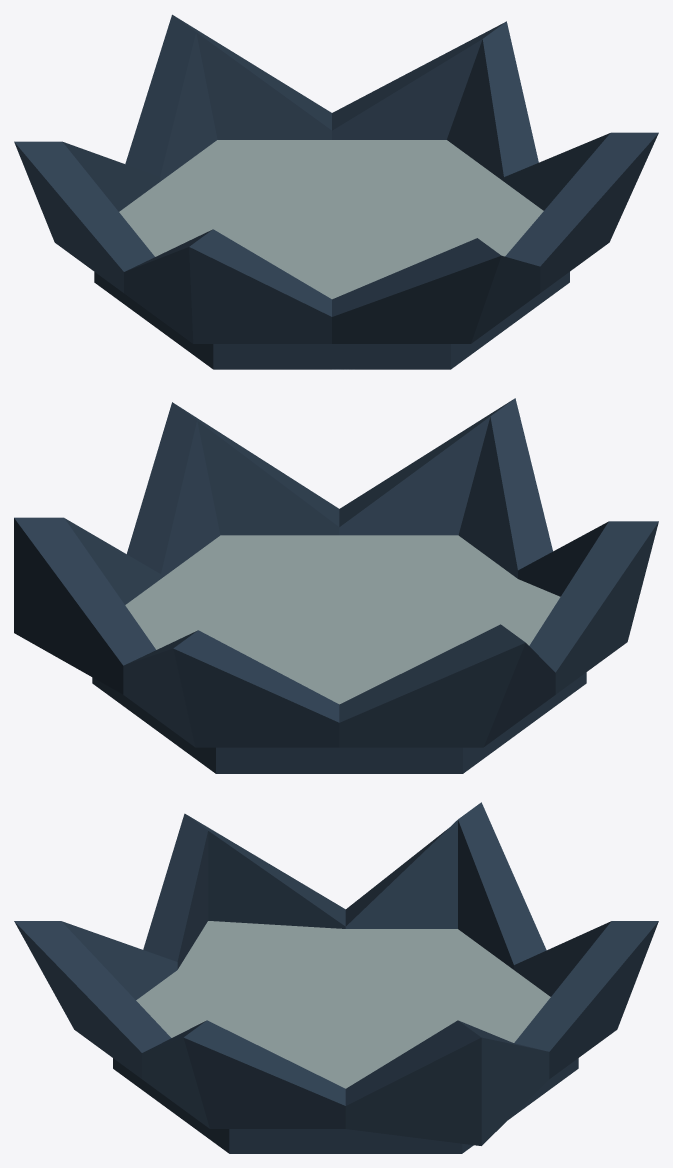
Rendered from pod.fbx.
The picture shows the model from 3 angles, top to bottom: view 1: azimuth 30°, elevation 25°; view 2: azimuth 150°, elevation 25°; view 3: azimuth 270°, elevation 25°; orthographic projection. The views are drawn at different scales.
Visible parts, largest first — view 1: Pod; view 2: Pod; view 3: Pod.
Part boxes in pixels (box(x1,y1,x2,y2)): Pod: box(14, 14, 658, 369); Pod: box(14, 398, 658, 773); Pod: box(14, 802, 658, 1153).
Bounding box in the file's own units: 239 × 69.95 × 277.
